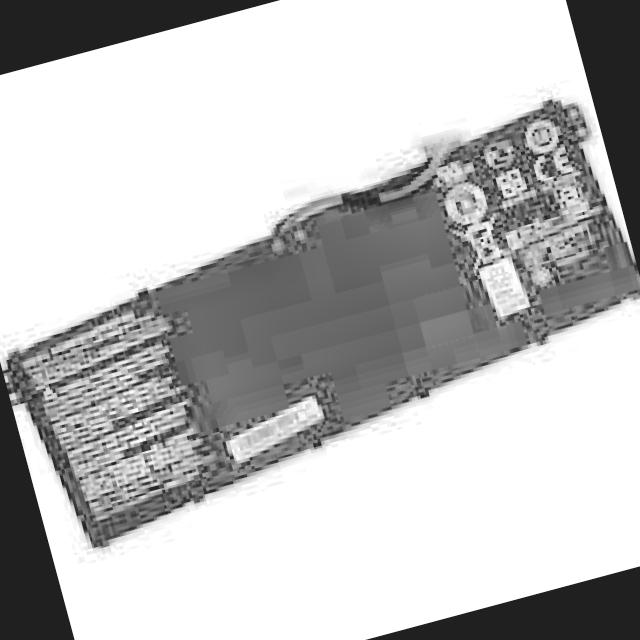Battery: (0, 94, 640, 553)
